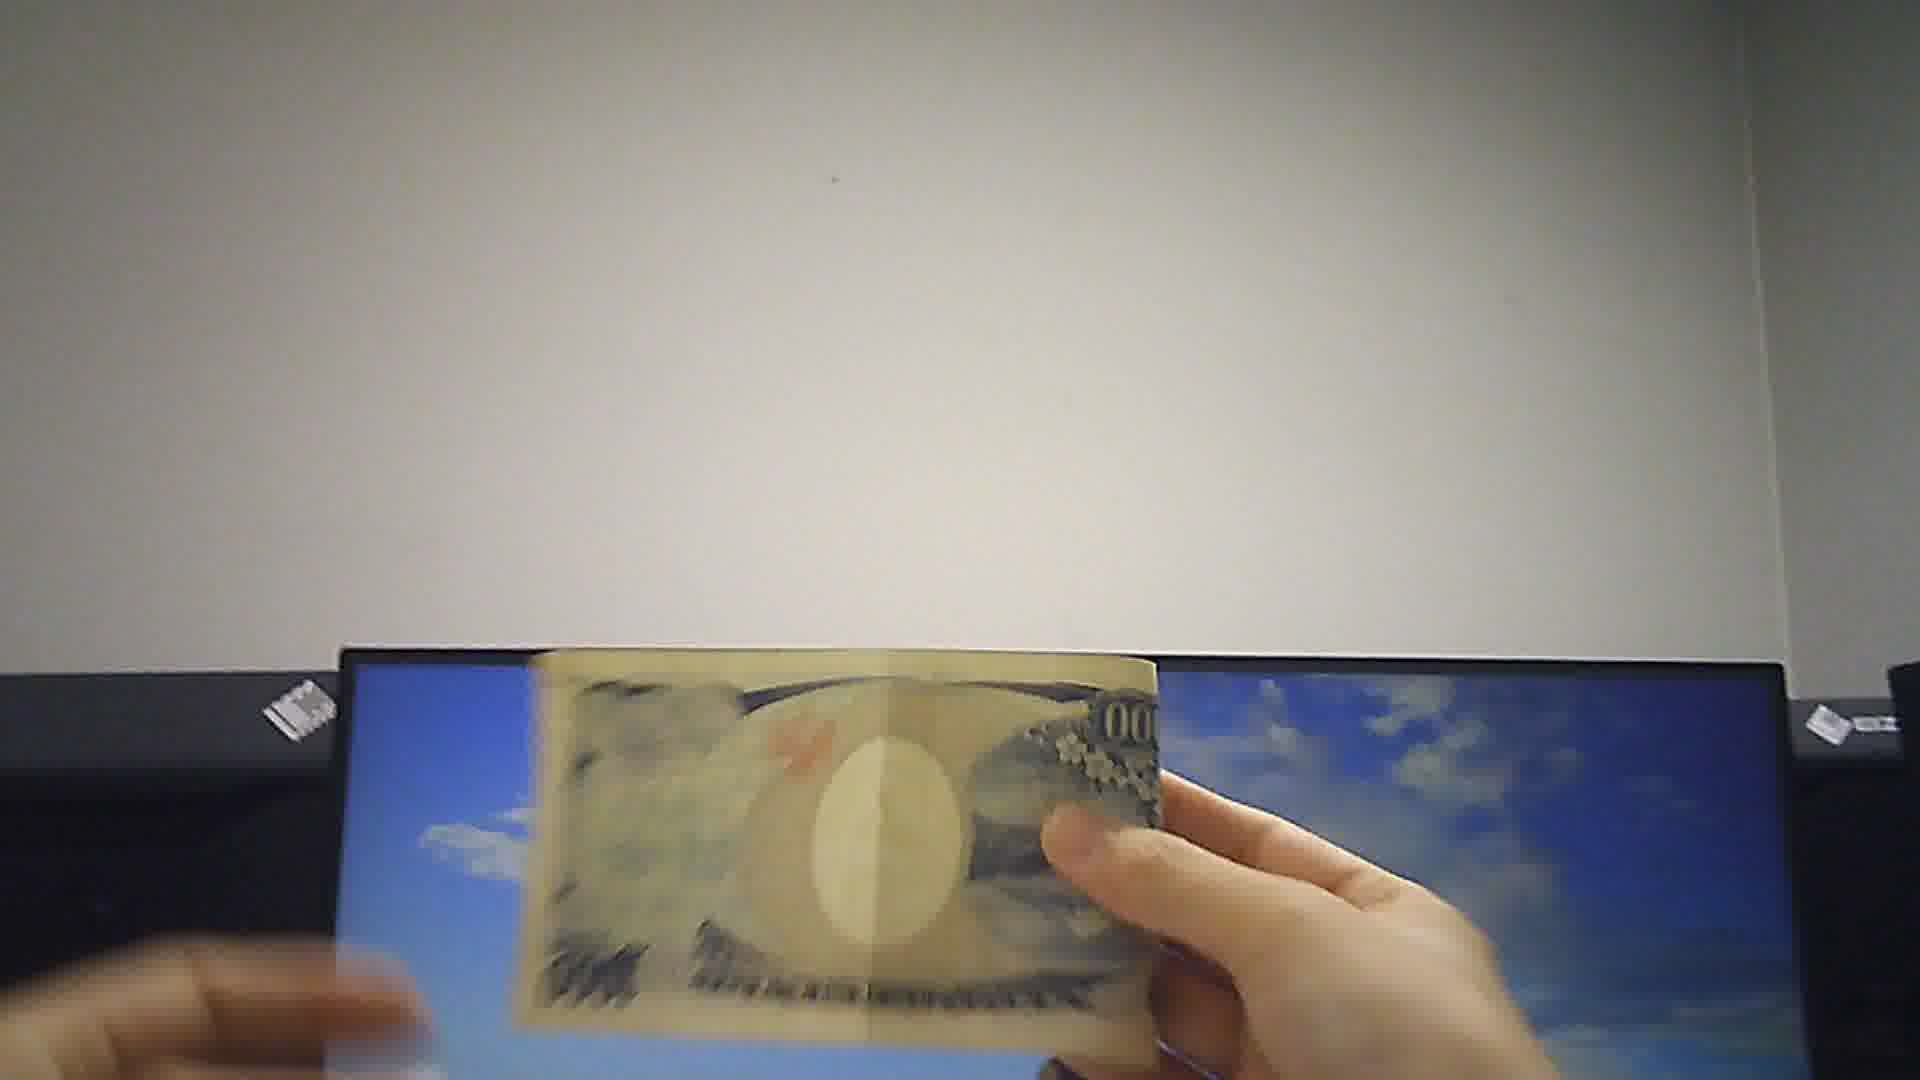1,000 Yen: (526, 630, 1156, 1069)
